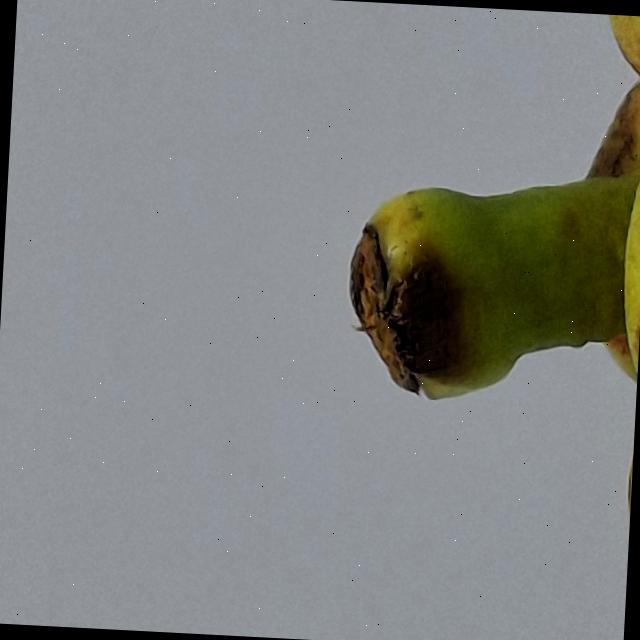mangosteen: (318, 1, 640, 640)
